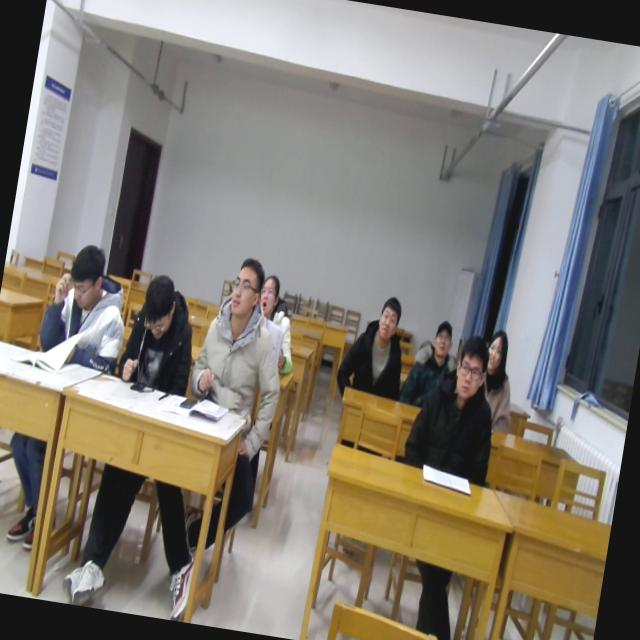down: (63, 237, 114, 315), (134, 267, 182, 346)
lookup: (222, 252, 268, 324), (446, 332, 491, 404), (370, 288, 406, 348), (478, 324, 514, 380), (254, 269, 285, 322), (424, 312, 458, 360)
sit: (184, 251, 300, 414), (400, 326, 510, 485), (31, 240, 137, 378), (115, 272, 204, 401), (332, 289, 414, 402), (399, 315, 462, 414), (249, 274, 306, 376), (474, 326, 526, 434)
